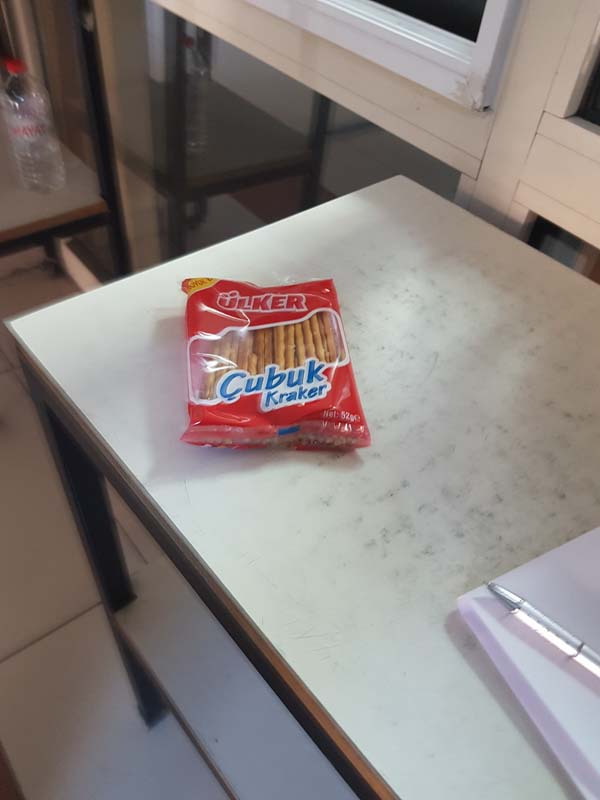eticubuk: (180, 280, 370, 450)
